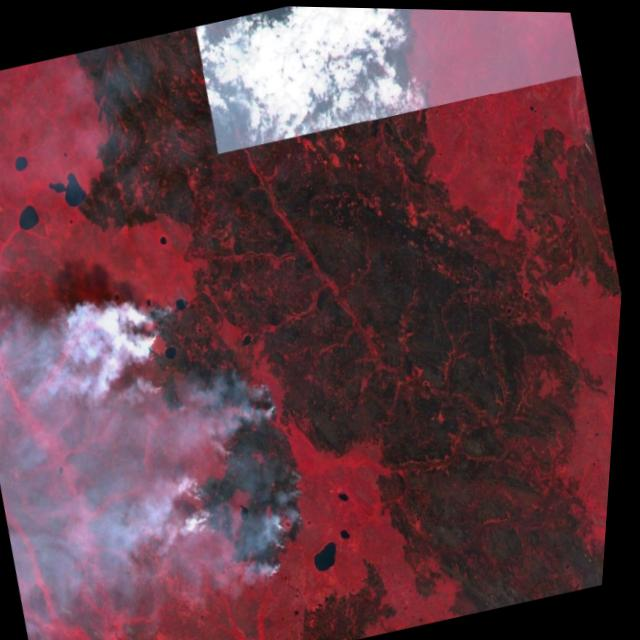fire: (105, 261, 343, 598)
